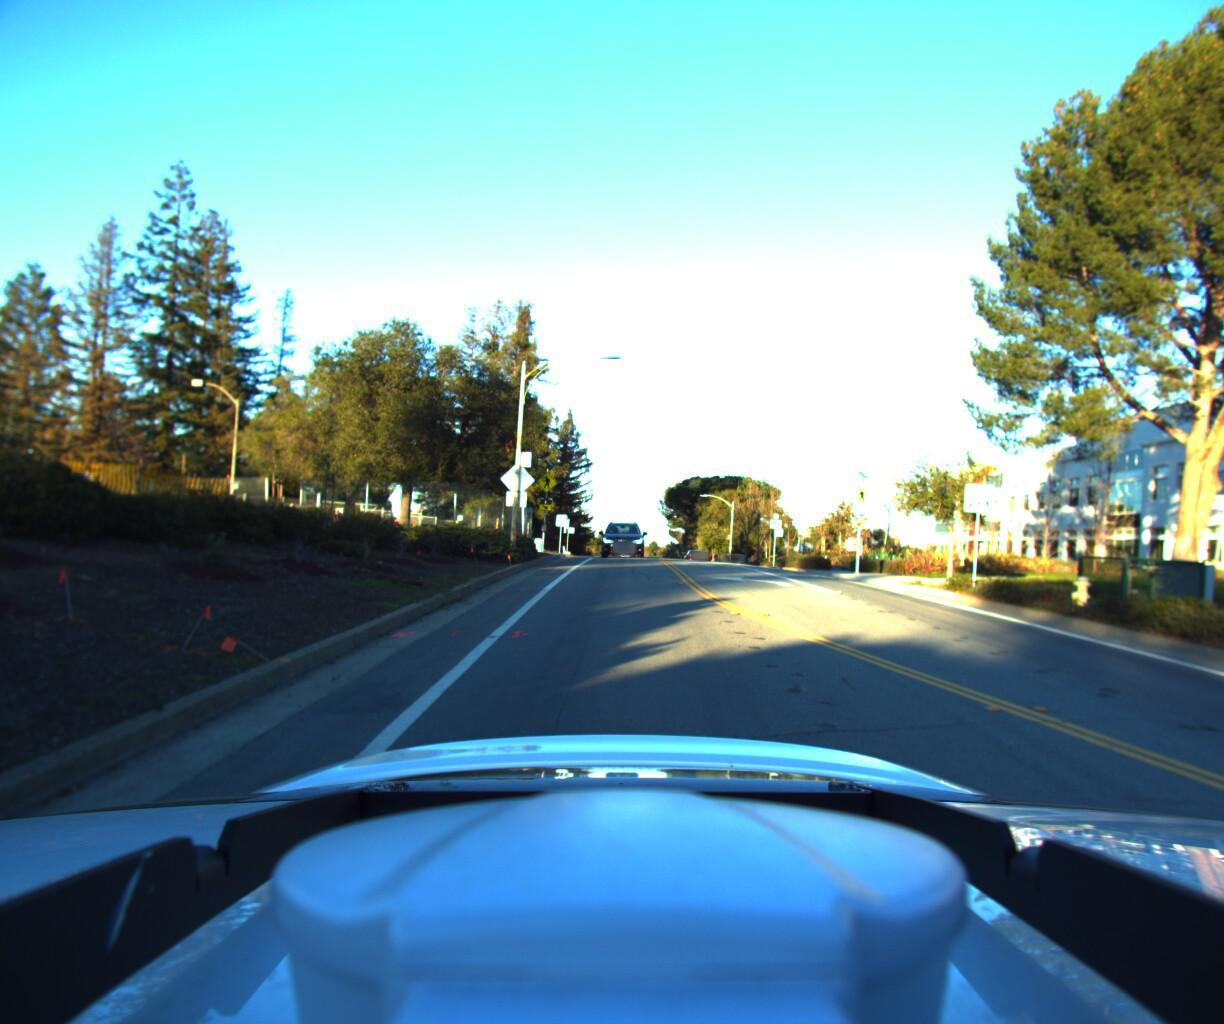car: (595, 514, 645, 558)
